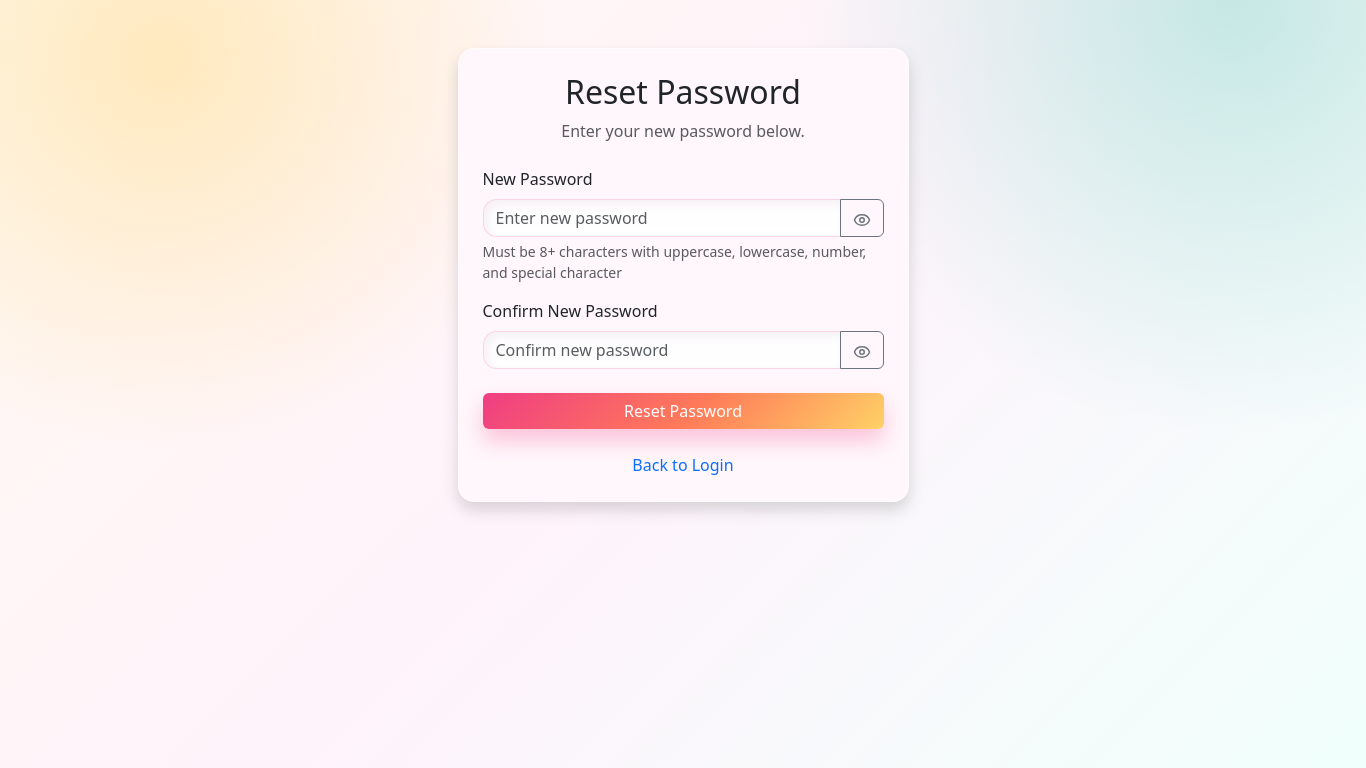
Test case: ResetPasswordForm › accepts a path-based token prop and submits the backend payload
The image size is (1366, 768).
Type "NewPass123!" into the password field labelled "New Password".
click(662, 218); type("NewPass123!")  # box [482,199,840,237]
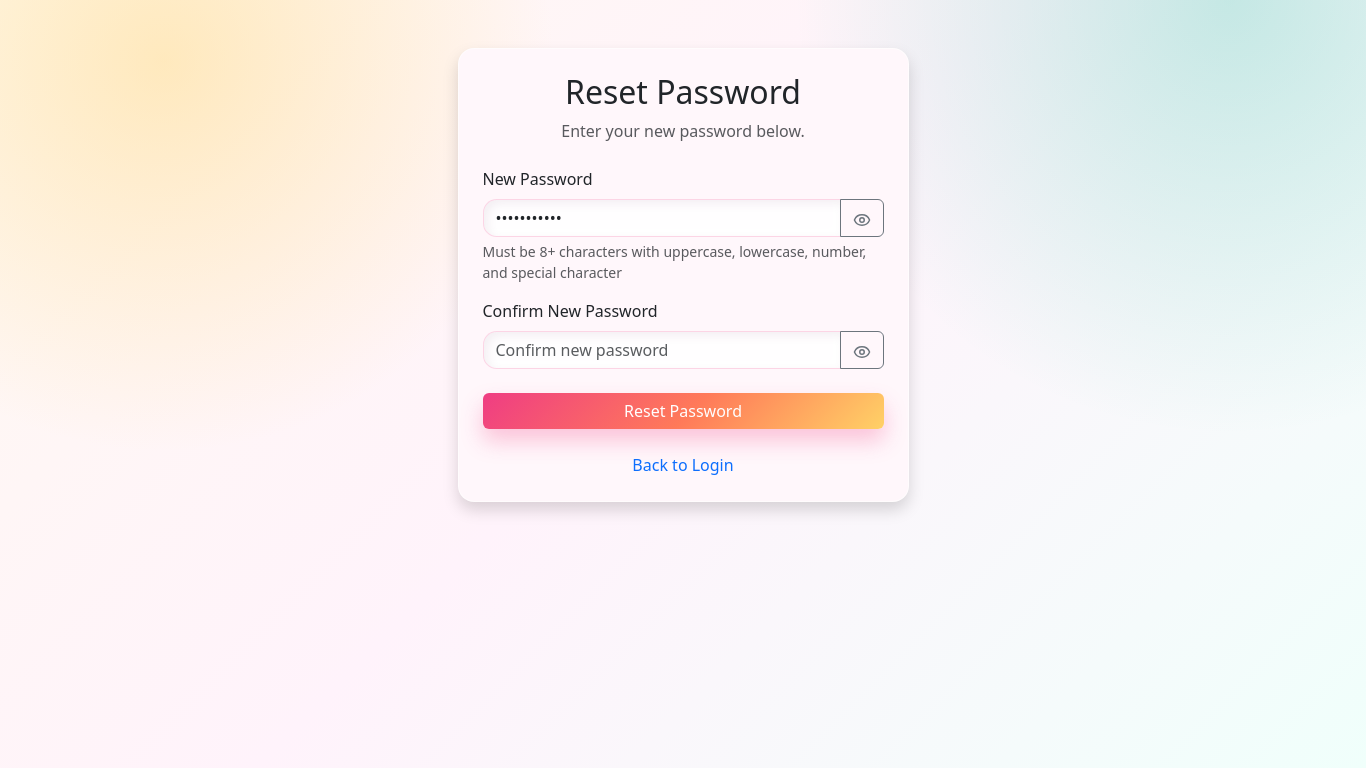
Type "NewPass123!" into the password field labelled "Confirm New Password".
click(662, 350); type("NewPass123!")  # box [482,331,840,369]
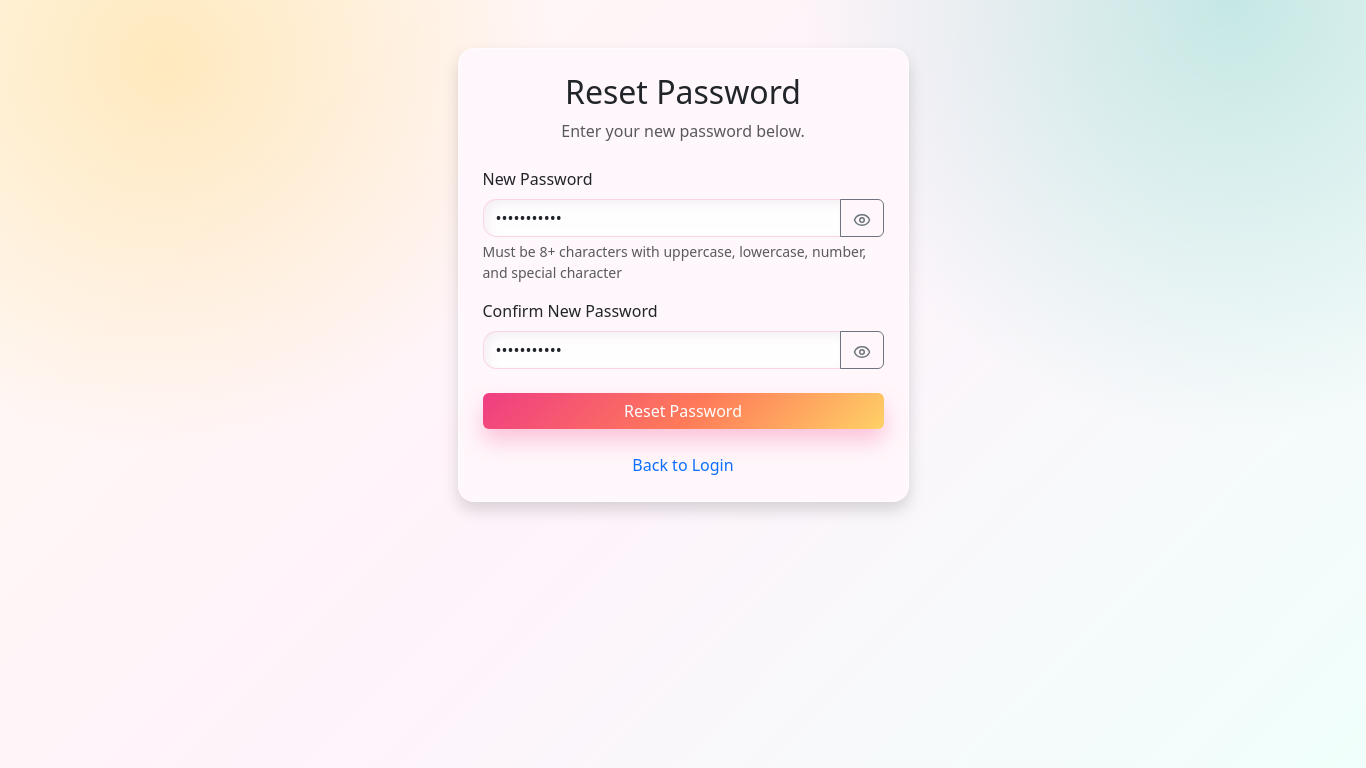
Click the button "Reset Password".
click(683, 411)  # box [482,393,884,429]
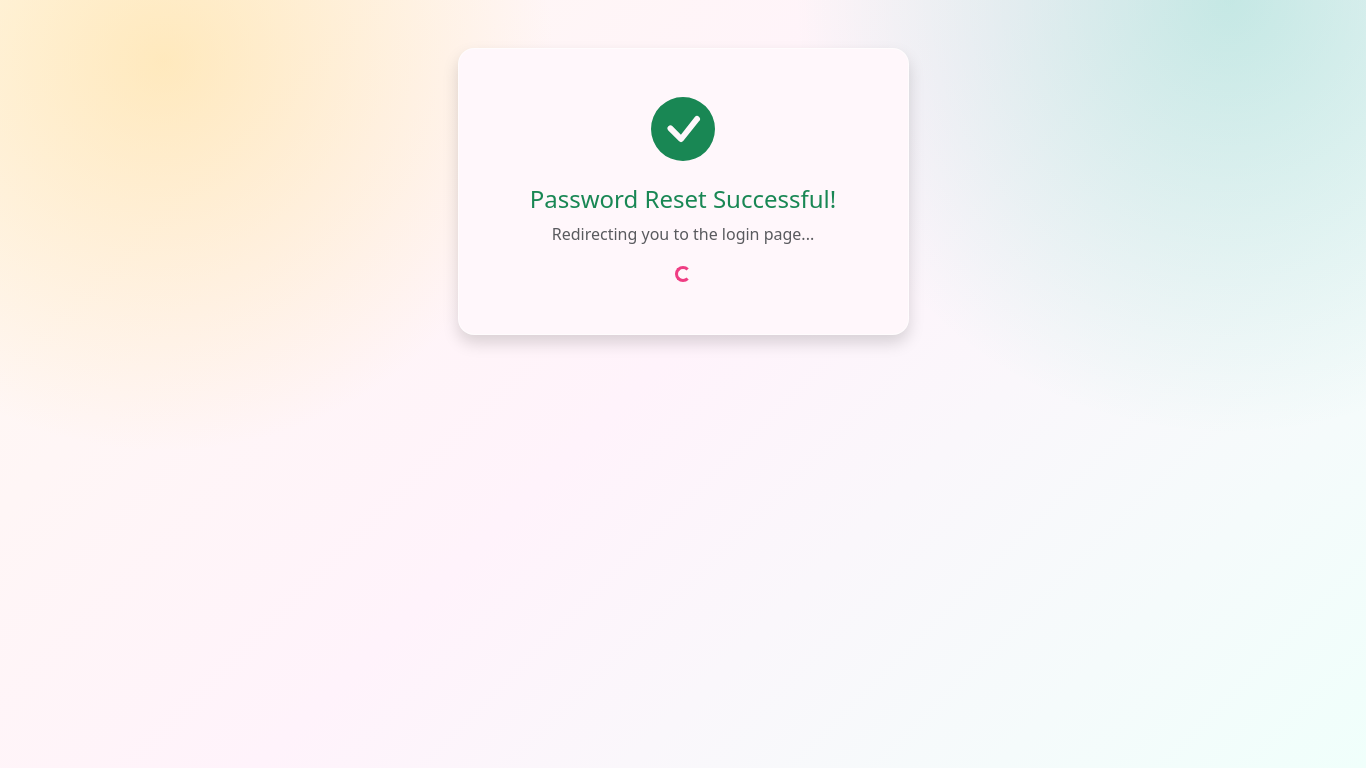
Now the heading "Password Reset Successful!" is shown, box [530,182,836,215]
